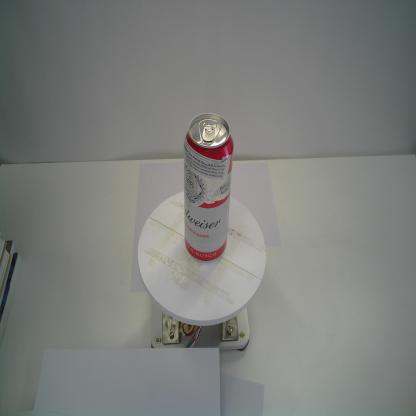Alcohol: (183, 112, 234, 263)
